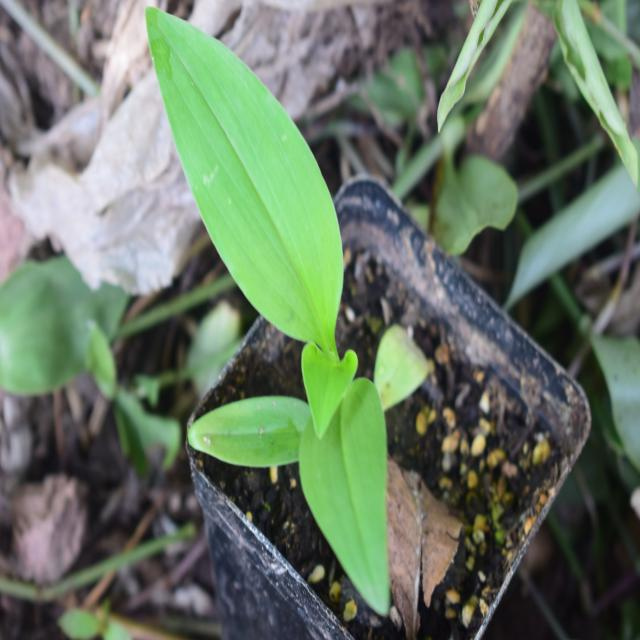Common Dayflower: (149, 14, 401, 618)
